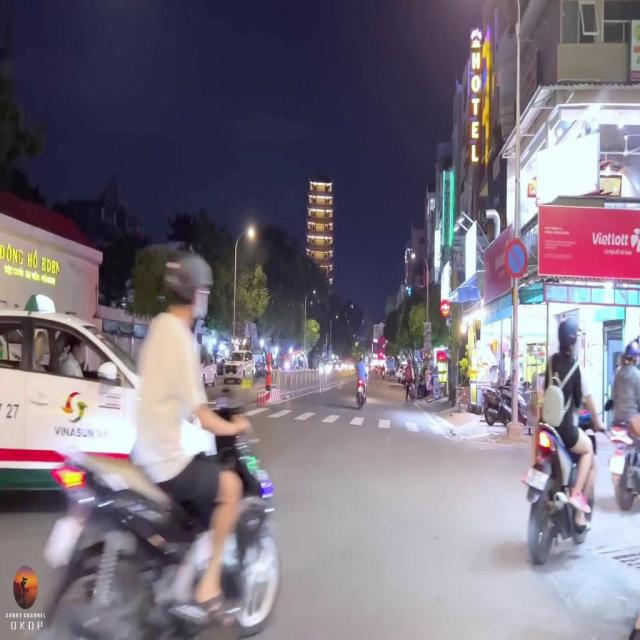cam_do_xe: (505, 238, 528, 277)
